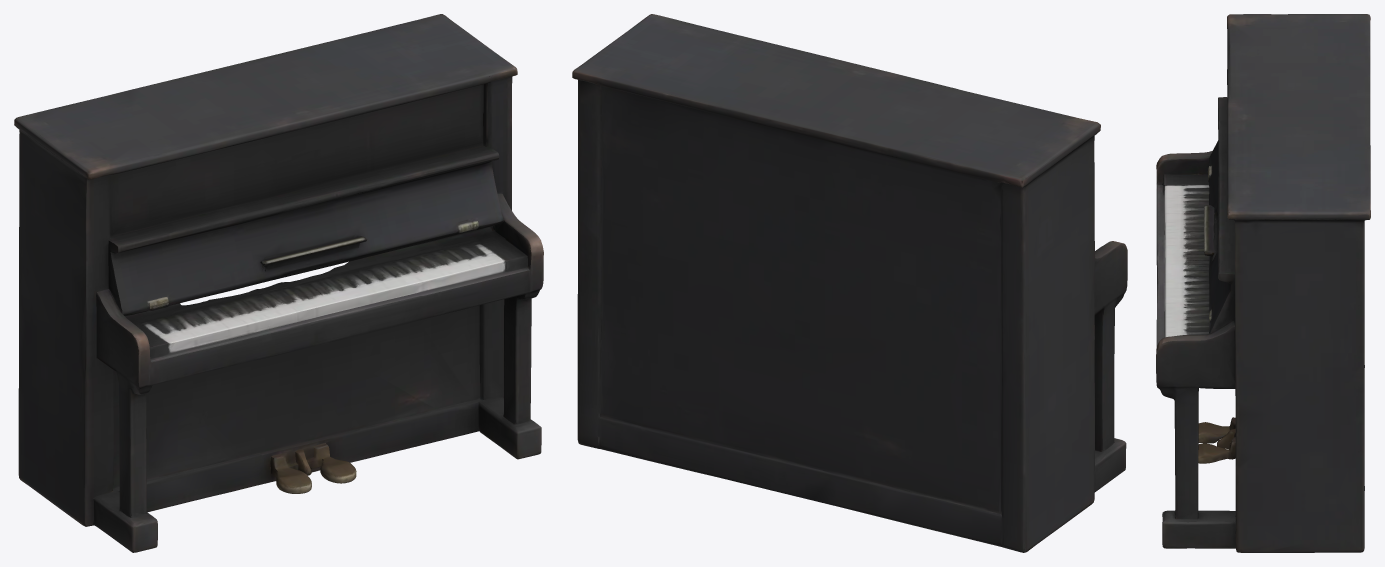
Rendered from piano.glb.
3 renders of one model, left to right at view 1: azimuth 30°, elevation 25°; view 2: azimuth 150°, elevation 25°; view 3: azimuth 270°, elevation 25°, orthographic. The views are drawn at different scales.
Visible parts, largest first — view 1: geometry_0; view 2: geometry_0; view 3: geometry_0.
Boxes of the visible parts, bbox=[...] form: geometry_0: bbox=[14, 14, 543, 552]; geometry_0: bbox=[572, 14, 1127, 552]; geometry_0: bbox=[1156, 14, 1370, 552].
Size of the model in its own units: 1.5 by 1.2 by 0.6826.
Materials: 1 (1 with a texture image).
